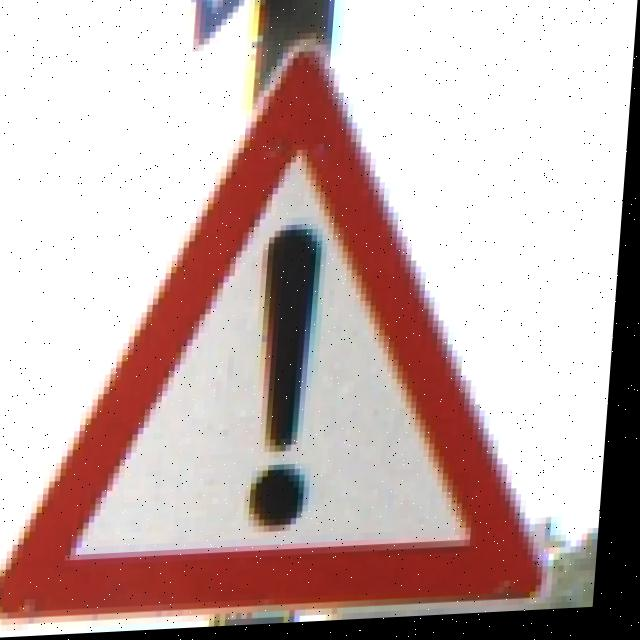warning: (0, 36, 592, 638)
